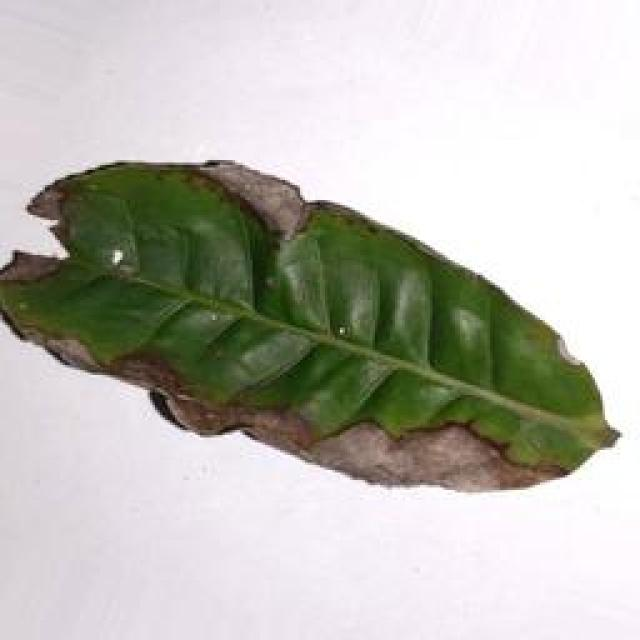Brown Blight: (0, 129, 626, 512)
